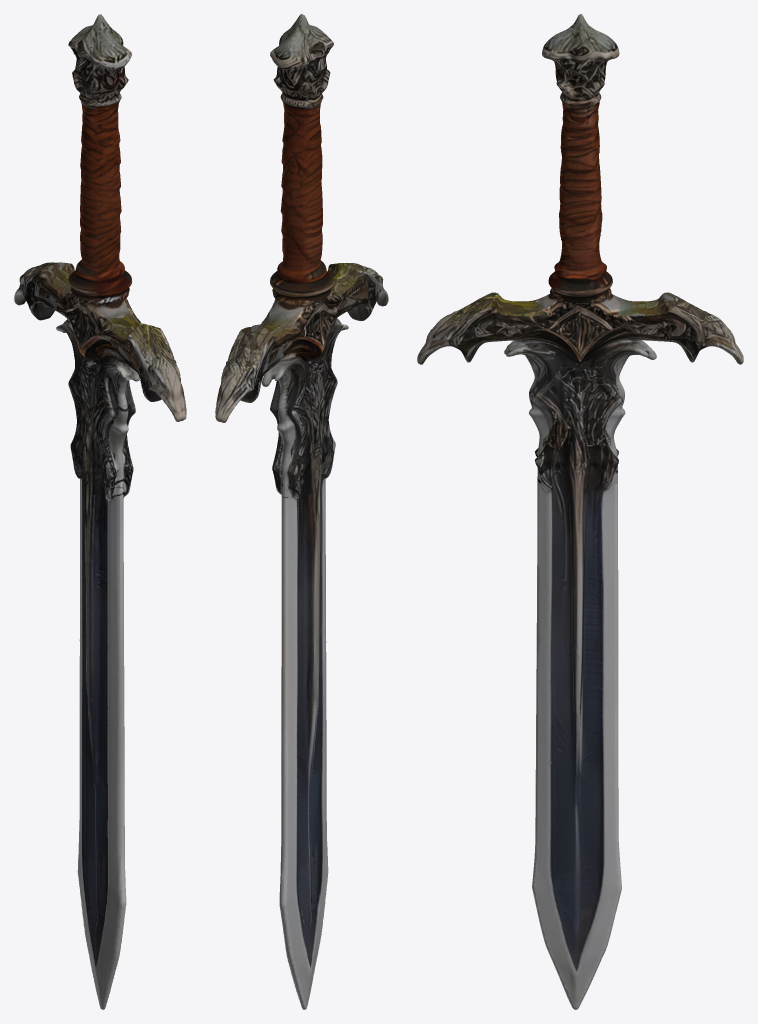
3 views of the same model, side by side, from view 1: azimuth 30°, elevation 25°; view 2: azimuth 150°, elevation 25°; view 3: azimuth 270°, elevation 25° (orthographic).
Parts seen in each view (by area): view 1: tripo_node_2444627a-b5cd-4072-8a79-aba05eb2be35; view 2: tripo_node_2444627a-b5cd-4072-8a79-aba05eb2be35; view 3: tripo_node_2444627a-b5cd-4072-8a79-aba05eb2be35.
Boxes of the visible parts, bbox=[...] form: tripo_node_2444627a-b5cd-4072-8a79-aba05eb2be35: bbox=[14, 14, 186, 1009]; tripo_node_2444627a-b5cd-4072-8a79-aba05eb2be35: bbox=[215, 14, 388, 1009]; tripo_node_2444627a-b5cd-4072-8a79-aba05eb2be35: bbox=[417, 14, 743, 1009].
Bounding box in the file's own units: 0.0585 × 1 × 0.2973.
Materials: 1 (1 with a texture image).
